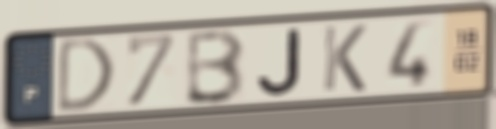4: (384, 17, 437, 91)
7: (124, 31, 177, 111)
B: (182, 26, 248, 107)
D: (54, 34, 118, 117)
J: (255, 25, 305, 98)
K: (320, 22, 370, 94)
